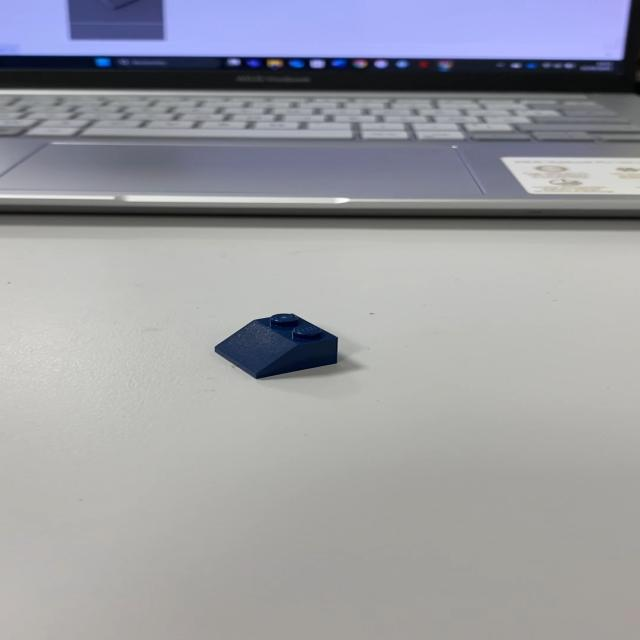P2x2x1: (212, 312, 339, 379)
